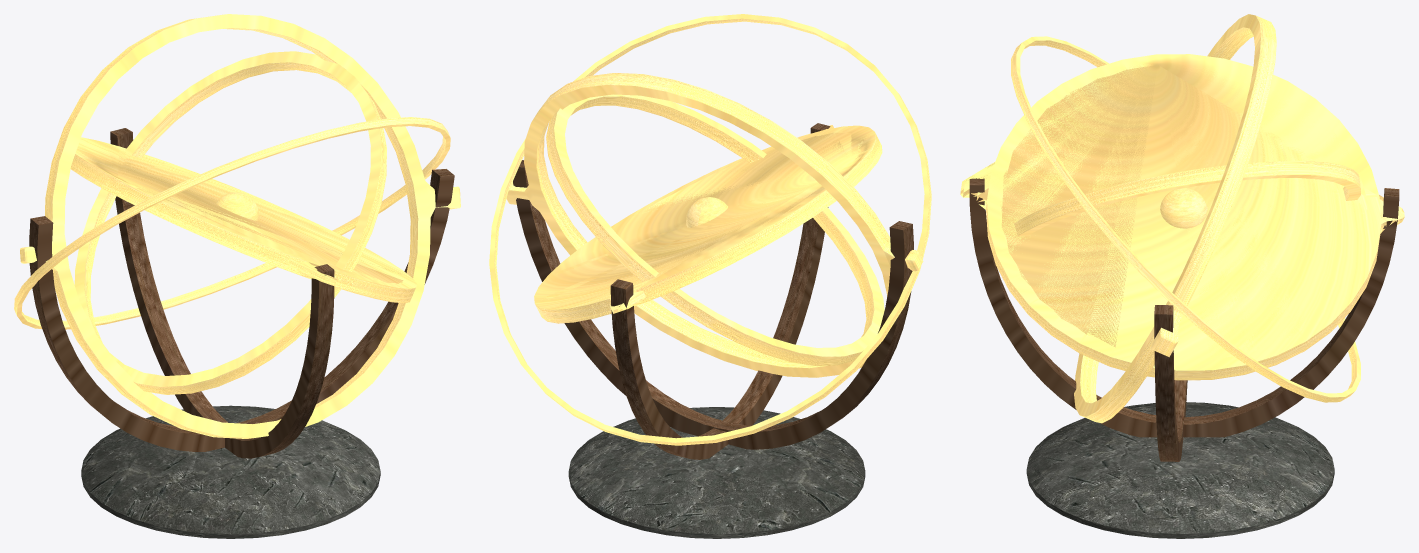
File: Model_SteampunkGlobe.FBX
3 renders of one model, left to right at view 1: azimuth 30°, elevation 25°; view 2: azimuth 150°, elevation 25°; view 3: azimuth 270°, elevation 25°, orthographic. The views are drawn at different scales.
Parts seen in each view (by area): view 1: Cylinder042, Cylinder038, Cylinder037, Cylinder039, Cylinder041, Cylinder043, Cylinder040, Sphere001; view 2: Cylinder042, Cylinder037, Cylinder038, Cylinder039, Cylinder041, Cylinder040, Cylinder043, Sphere001; view 3: Cylinder037, Cylinder042, Cylinder043, Cylinder038, Cylinder040, Cylinder039, Cylinder041, Sphere001.
Part boxes in pixels (x1=…): Cylinder042: x1=81, y1=405, x2=380, y2=538; Cylinder038: x1=20, y1=14, x2=460, y2=438; Cylinder037: x1=70, y1=137, x2=416, y2=303; Cylinder039: x1=74, y1=51, x2=386, y2=394; Cylinder041: x1=29, y1=169, x2=454, y2=451; Cylinder043: x1=110, y1=128, x2=334, y2=458; Cylinder040: x1=14, y1=117, x2=450, y2=329; Sphere001: x1=216, y1=192, x2=259, y2=220; Cylinder042: x1=568, y1=407, x2=865, y2=538; Cylinder037: x1=534, y1=125, x2=882, y2=323; Cylinder038: x1=506, y1=73, x2=923, y2=377; Cylinder039: x1=546, y1=94, x2=884, y2=365; Cylinder041: x1=513, y1=160, x2=913, y2=449; Cylinder040: x1=489, y1=14, x2=931, y2=445; Cylinder043: x1=610, y1=123, x2=830, y2=459; Sphere001: x1=686, y1=197, x2=728, y2=227; Cylinder037: x1=960, y1=54, x2=1404, y2=380; Cylinder042: x1=1026, y1=402, x2=1334, y2=538; Cylinder043: x1=969, y1=178, x2=1399, y2=437; Cylinder038: x1=1074, y1=14, x2=1276, y2=423; Cylinder040: x1=1011, y1=36, x2=1360, y2=402; Cylinder039: x1=1014, y1=161, x2=1360, y2=236; Cylinder041: x1=1154, y1=305, x2=1187, y2=461; Sphere001: x1=1160, y1=188, x2=1207, y2=228.
Size of the model in its own units: 70.6 by 67.95 by 61.92.
Materials: 3 (3 with a texture image).
